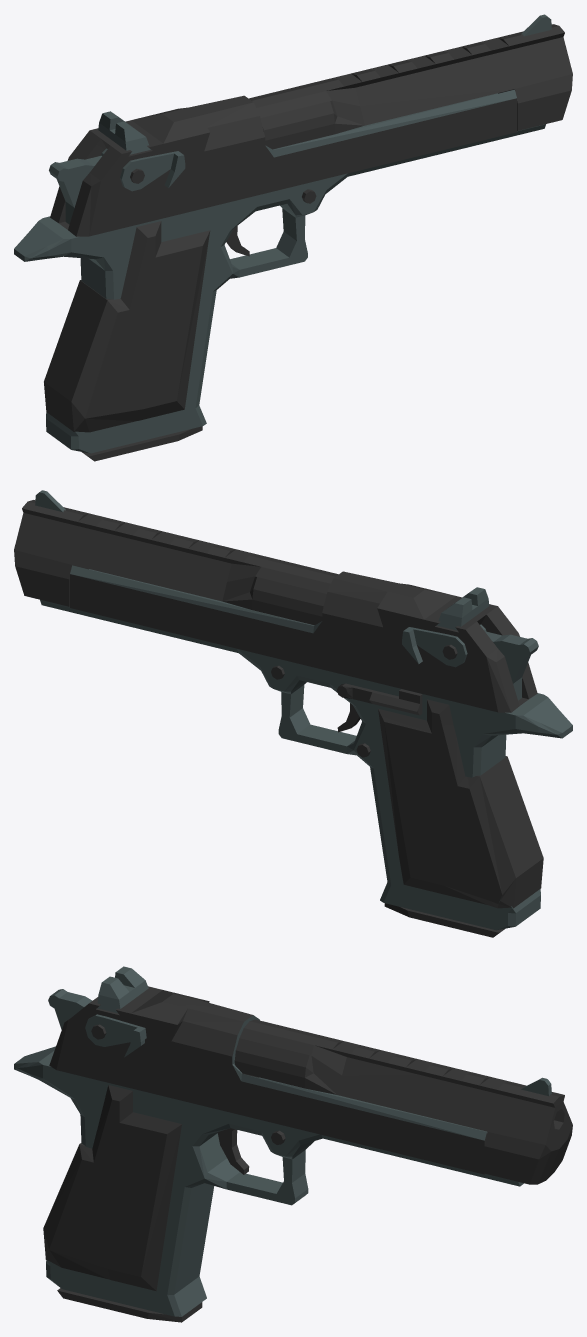
Rendered from deagle.fbx.
3 renders of one model, top to bottom at view 1: azimuth 30°, elevation 25°; view 2: azimuth 150°, elevation 25°; view 3: azimuth 330°, elevation 25°, orthographic.
Parts seen in each view (by area): view 1: Cylinder008; view 2: Cylinder008; view 3: Cylinder008.
Part boxes in pixels (x1,y1,x2,y2): Cylinder008: [14, 14, 572, 461]; Cylinder008: [14, 490, 572, 937]; Cylinder008: [14, 966, 572, 1322].
Bounding box in the file's own units: 475 × 270 × 67.26.
